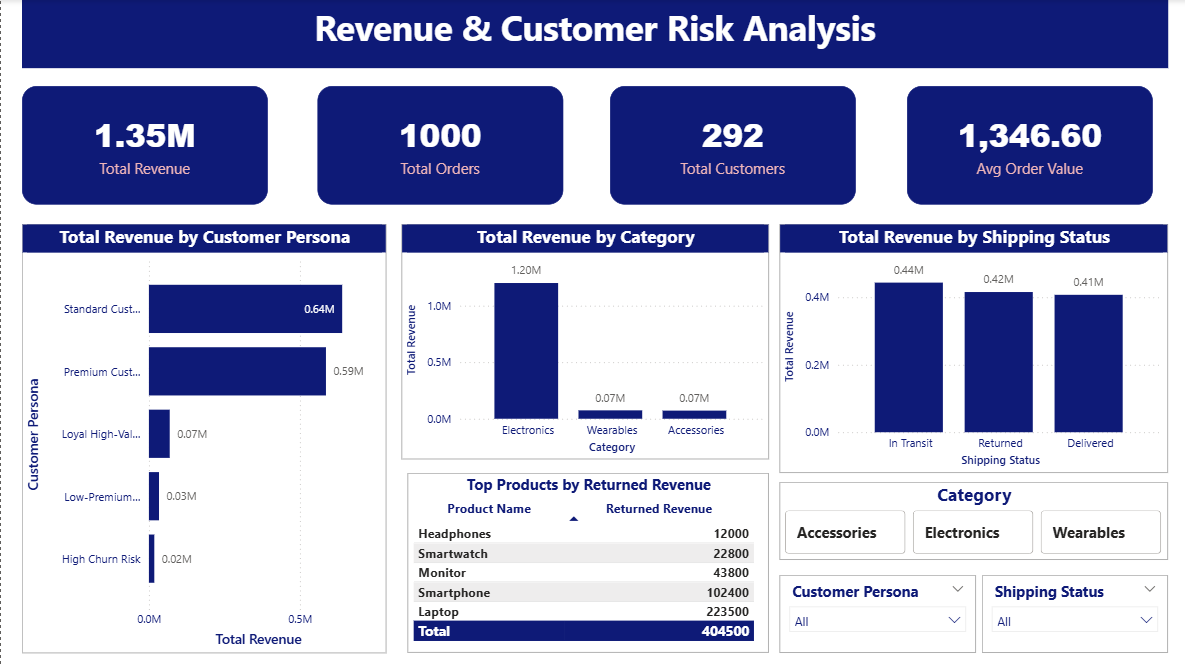

This screenshot's page, from the dashboard's own definition file:
{"tool":"powerbi","page":{"name":"Executive Revenue & Customer Insights","canvas":[1280,720],"ordinal":0},"visuals":[{"type":"card","fields":{"Values":["Customer_segments.Avg Order Value"]},"box":[978,93.9,265.6,127.9],"z":3000},{"type":"clusteredBarChart","title":"Total Revenue by Customer Persona","fields":{"Category":["Customer_segments.customer_persona"],"Y":["Sum(Raw_data.total_price)"]},"box":[22.7,242.9,393.5,463.1],"z":4000},{"type":"tableEx","title":"Top Products by Returned Revenue","fields":{"Values":["Raw_data.product_name","Sum(Raw_data.total_price)"]},"box":[438.8,511.7,390.2,194.3],"z":7000},{"type":"advancedSlicerVisual","title":"Category","fields":{"Values":["Raw_data.category"]},"box":[840.4,521.4,419.4,84.2],"z":8000},{"type":"slicer","fields":{"Values":["Customer_segments.customer_persona"]},"box":[840.4,621.8,212.1,84.2],"z":9000},{"type":"slicer","fields":{"Values":["Raw_data.shipping_status"]},"box":[1059,621.8,200.8,84.2],"z":10000},{"type":"card","fields":{"Values":["Customer_segments.Total Revenue"]},"box":[22.7,93.9,265.6,127.9],"z":10001},{"type":"card","fields":{"Values":["Customer_segments.Total Orders"]},"box":[341.7,93.9,265.6,127.9],"z":10002},{"type":"card","fields":{"Values":["Customer_segments.Total Customers"]},"box":[657.4,93.9,265.6,127.9],"z":10003},{"type":"clusteredColumnChart","title":"Total Revenue by Category","fields":{"Y":["Sum(Raw_data.total_price)"],"Category":["Raw_data.category"]},"box":[432.3,242.9,396.7,254.2],"z":10004},{"type":"clusteredColumnChart","title":"Total Revenue by Shipping Status","fields":{"Y":["Sum(Raw_data.total_price)"],"Category":["Raw_data.shipping_status"]},"box":[840.4,242.9,419.4,268.8],"z":10005},{"type":"textbox","box":[22.7,0,1237.1,74.5],"z":10006}]}

Visuals, with their boxes in screenshot pixels (x1, y1, x2, y2), scaled from the page's 1280x720 canvas onto the 1185x664 screenshot:
card - Customer_segments.Avg Order Value: <region>905, 87, 1151, 205</region>
"Total Revenue by Customer Persona" clusteredBarChart: <region>21, 224, 385, 651</region>
"Top Products by Returned Revenue" tableEx: <region>406, 472, 767, 651</region>
"Category" advancedSlicerVisual: <region>778, 481, 1166, 558</region>
slicer - Customer_segments.customer_persona: <region>778, 573, 974, 651</region>
slicer - Raw_data.shipping_status: <region>980, 573, 1166, 651</region>
card - Customer_segments.Total Revenue: <region>21, 87, 267, 205</region>
card - Customer_segments.Total Orders: <region>316, 87, 562, 205</region>
card - Customer_segments.Total Customers: <region>609, 87, 854, 205</region>
"Total Revenue by Category" clusteredColumnChart: <region>400, 224, 767, 458</region>
"Total Revenue by Shipping Status" clusteredColumnChart: <region>778, 224, 1166, 472</region>
textbox: <region>21, 0, 1166, 69</region>
